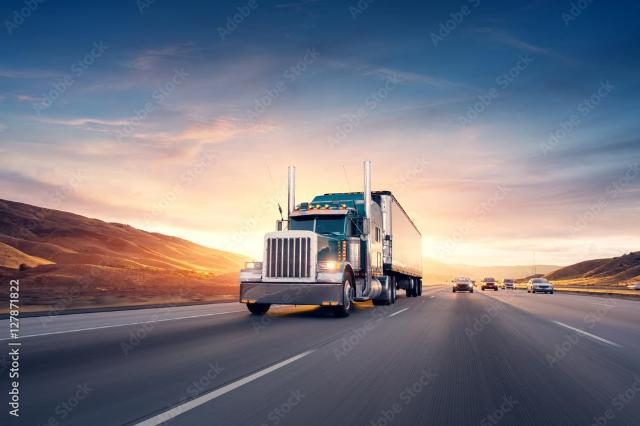truck: (225, 171, 425, 324)
